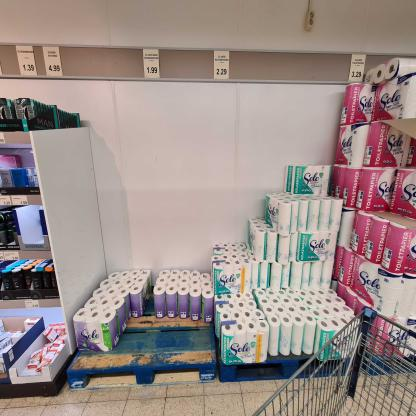prtg: (17, 46, 39, 77), (43, 47, 64, 77), (349, 55, 367, 83), (144, 50, 161, 79), (215, 51, 231, 81)
